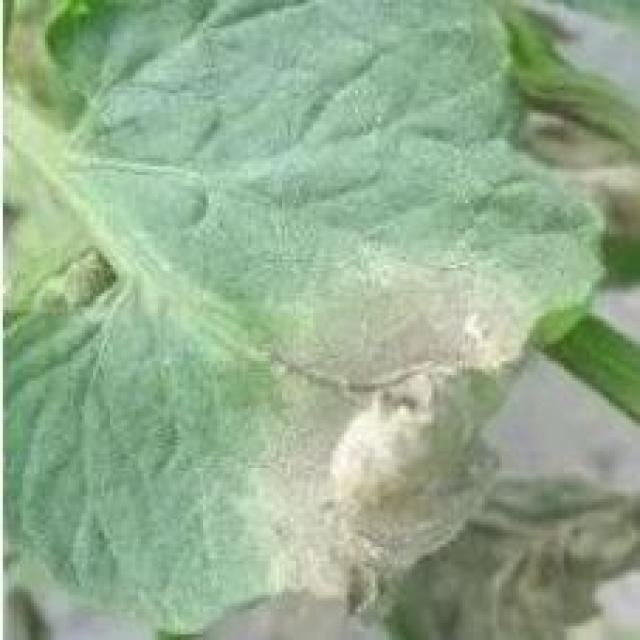Late Blight: (7, 0, 608, 640)
